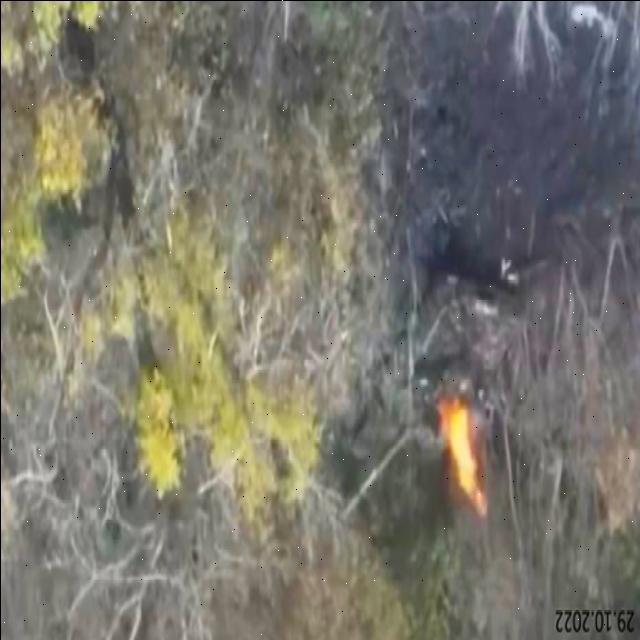TANK: (334, 262, 530, 536)
